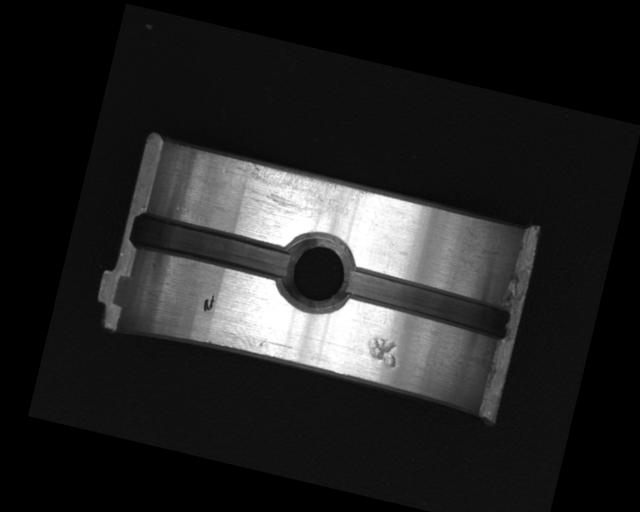blot: (201, 292, 215, 313)
bruise: (363, 334, 401, 370)
gap: (340, 264, 515, 344), (126, 210, 295, 285)
hole: (272, 225, 363, 321)
scratch: (211, 155, 375, 237)
